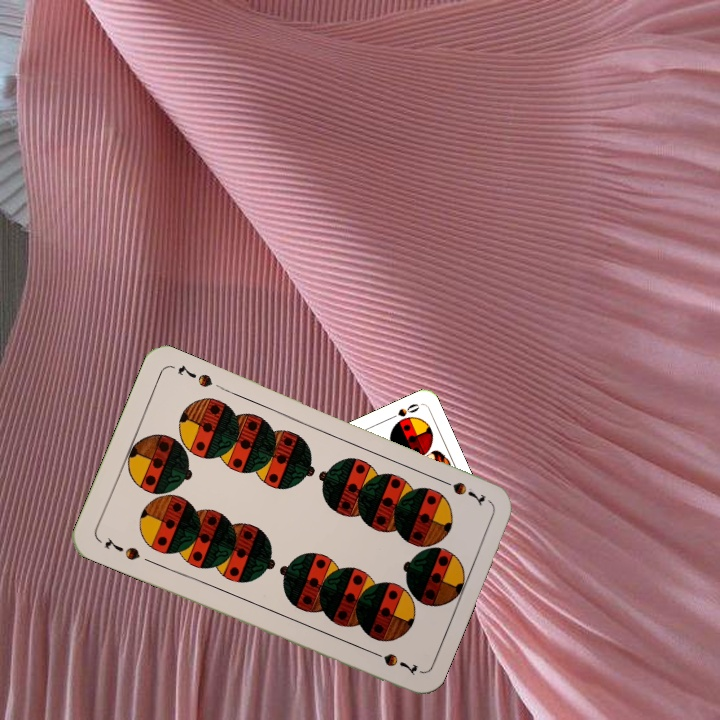S7: (435, 474, 489, 508), (101, 533, 143, 563)
SO: (385, 399, 422, 422)
